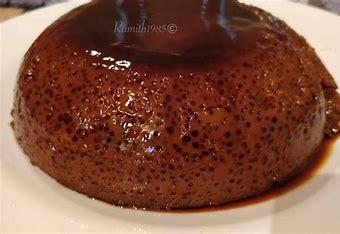Watalappam: (17, 6, 317, 206)
